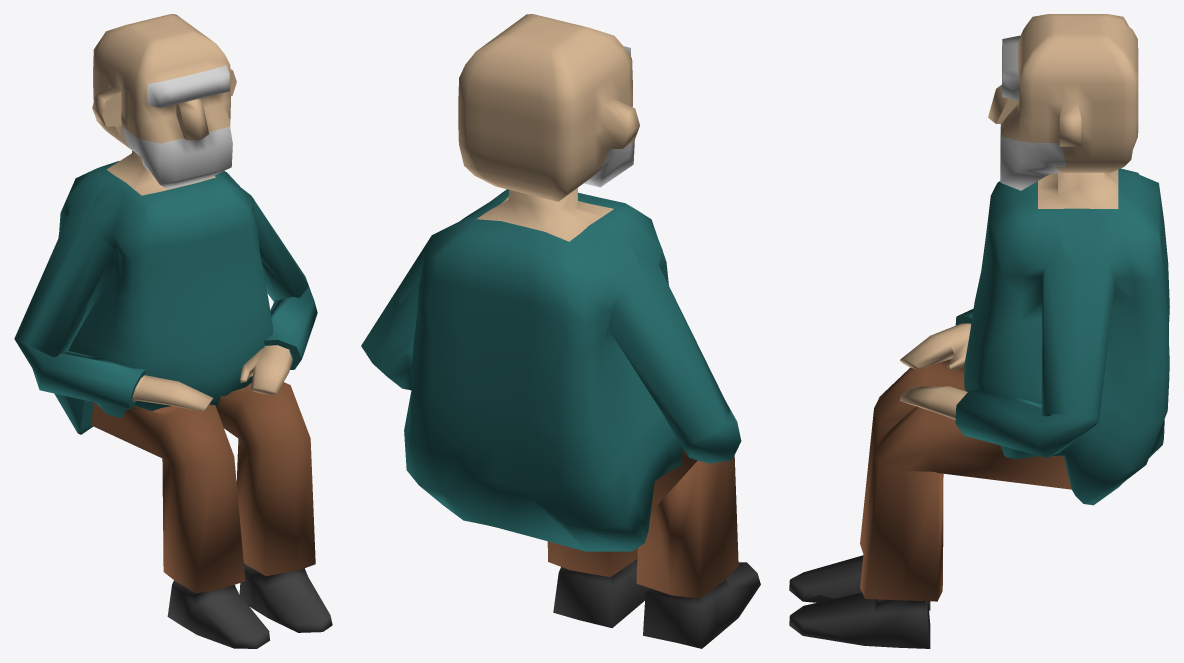
Rendered from OldMan.fbx.
3 renders of one model, left to right at view 1: azimuth 30°, elevation 25°; view 2: azimuth 150°, elevation 25°; view 3: azimuth 270°, elevation 25°, orthographic. The views are drawn at different scales.
Visible parts, largest first — view 1: Cube.001; view 2: Cube.001; view 3: Cube.001.
Boxes of the visible parts, <box> form: Cube.001: <box>14,14,332,648</box>; Cube.001: <box>361,14,760,648</box>; Cube.001: <box>789,14,1169,648</box>.
Bounding box in the file's own units: 419 × 748 × 436.
